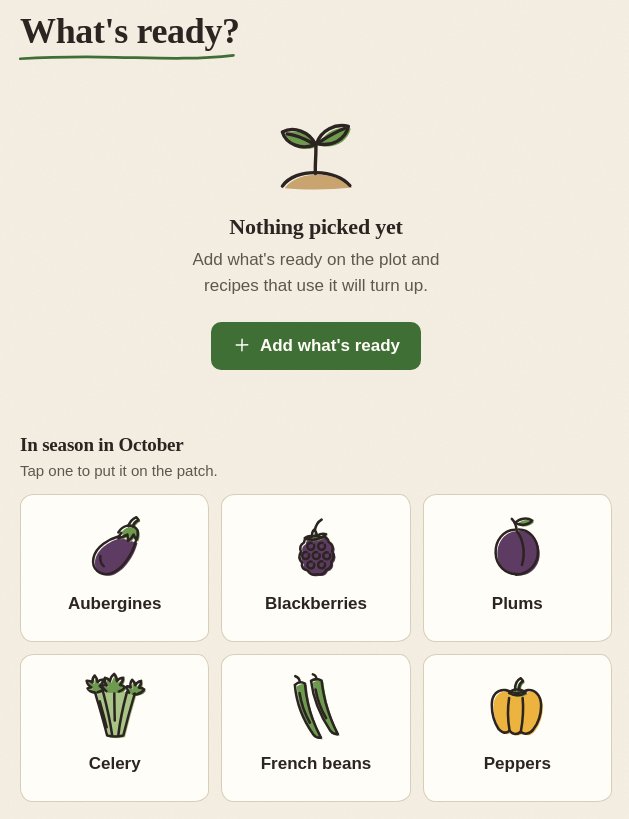
Test: PatchScreen › when nothing is on the patch › says so kindly and offers what is in season as quick-add tiles
Expected: the heading "Nothing picked yet" is shown, top-left (229, 215), bottom-right (403, 239)
What coordinates should you click on to do the following:
click the button with aria-label "Add Aubergines"
I would click on:
 (115, 568)
Its box is top-left (20, 494), bottom-right (209, 642).
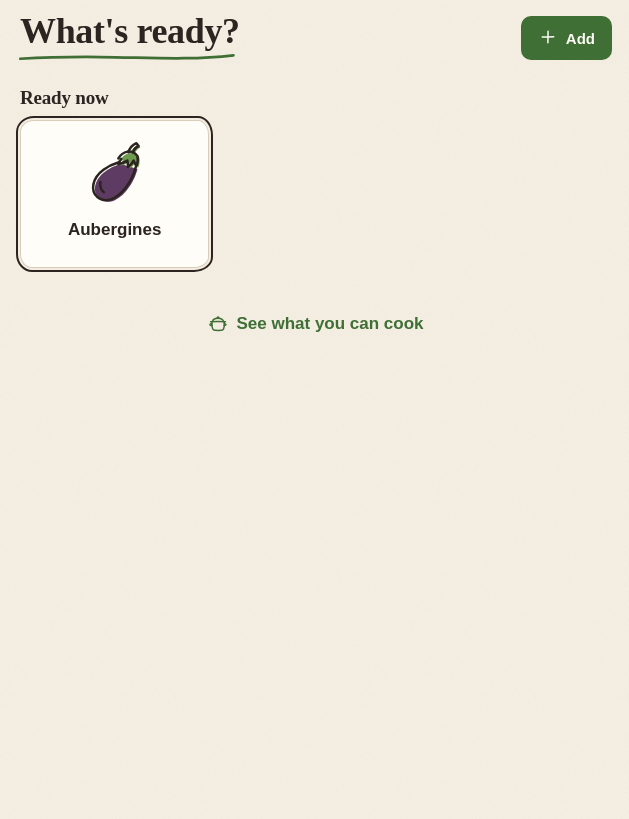
Result: the heading "Nothing picked yet" is gone
